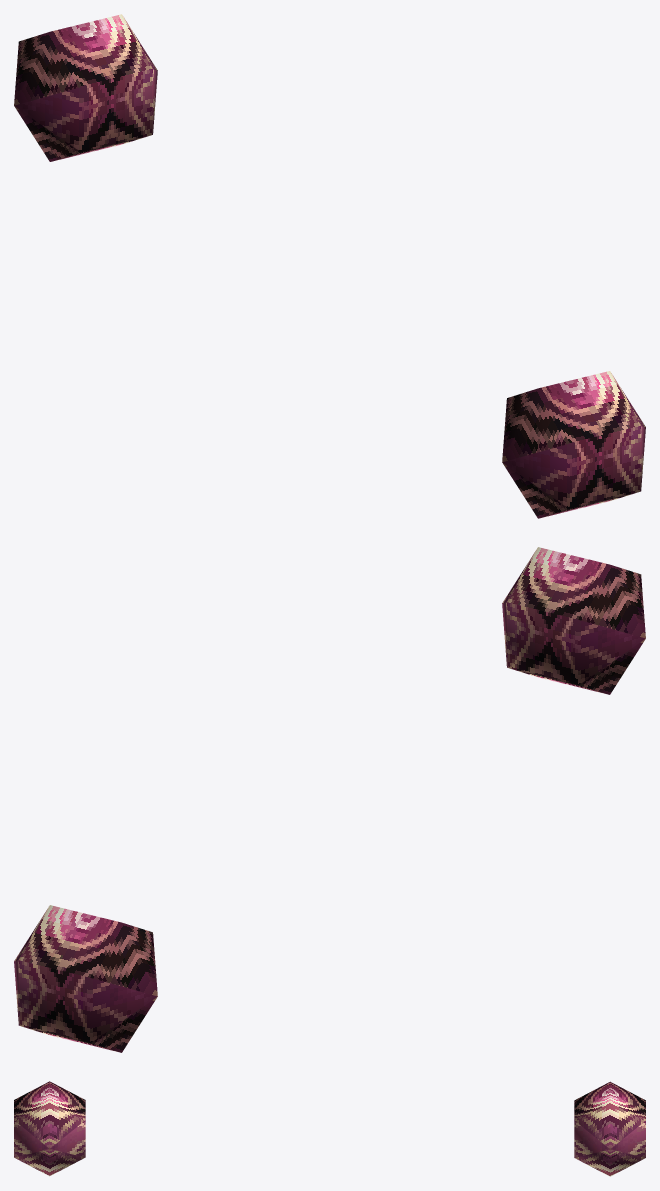
3 views of the same model, one above another, from view 1: azimuth 30°, elevation 25°; view 2: azimuth 150°, elevation 25°; view 3: azimuth 270°, elevation 25° (orthographic). The views are drawn at different scales.
Parts seen in each view (by area): view 1: sa_m; view 2: sa_m; view 3: sa_m.
Part boxes in pixels (x1=…): sa_m: x1=14, y1=14, x2=645, y2=518; sa_m: x1=14, y1=547, x2=645, y2=1052; sa_m: x1=14, y1=1081, x2=645, y2=1176.
Size of the model in its own units: 0.9804 by 0.8535 by 6.5.
1 material, 1 textured.
